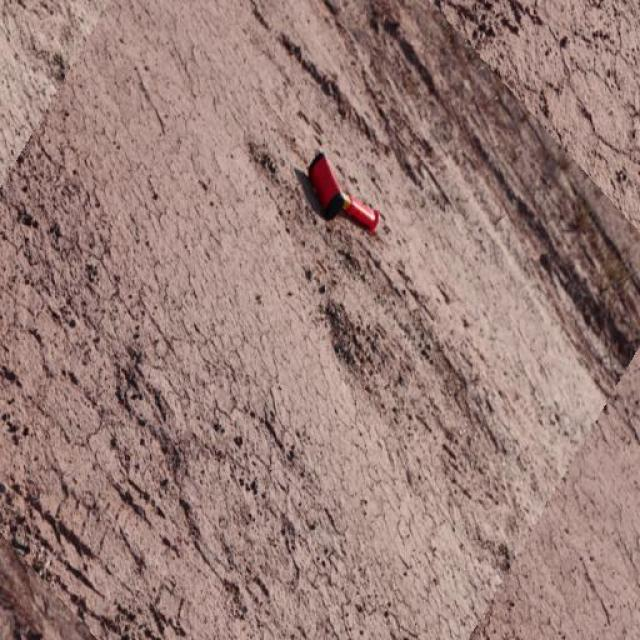mallet: (305, 149, 380, 235)
